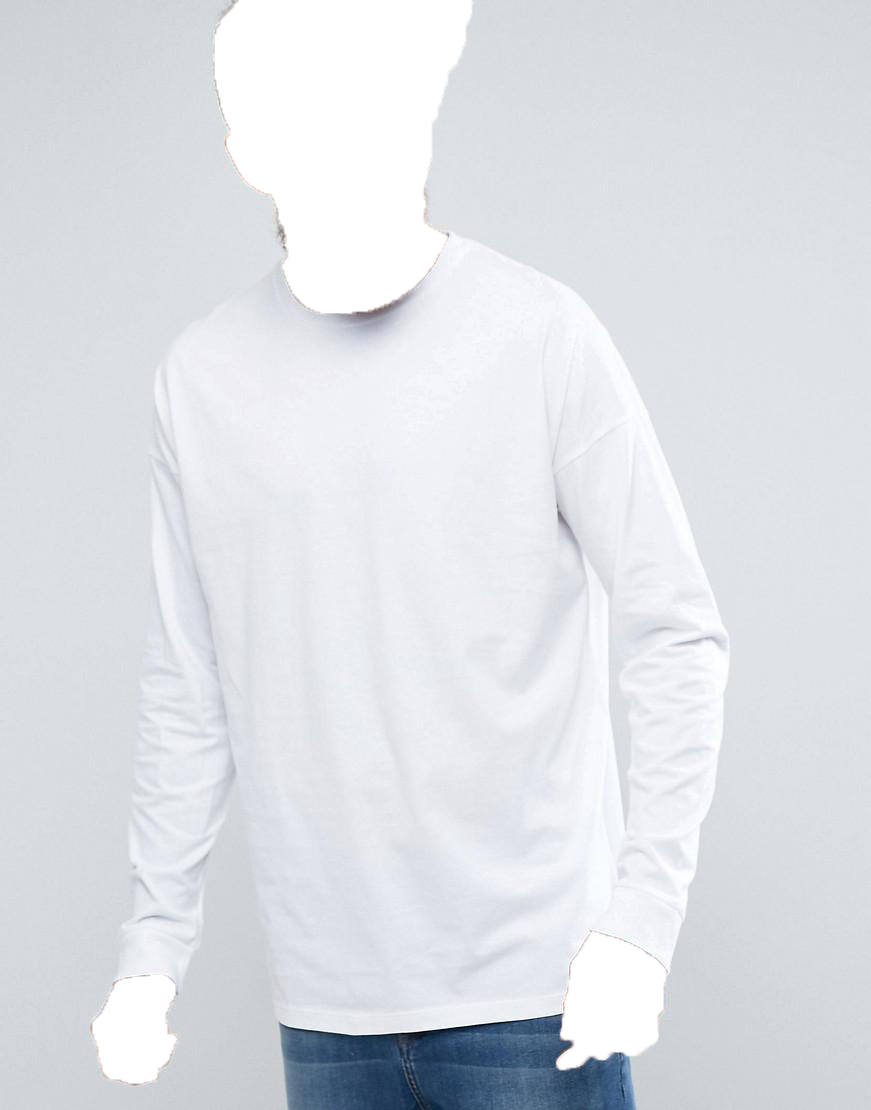teeshirt: (101, 229, 759, 1051)
